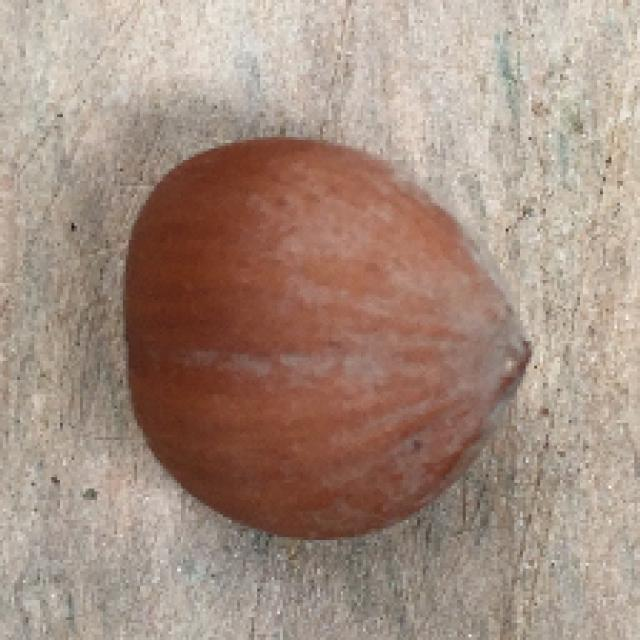qualityHazelnut: (111, 128, 542, 550)
